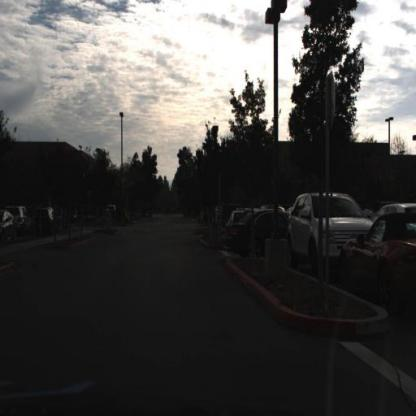car: (338, 212, 416, 324), (283, 189, 368, 283), (226, 204, 292, 255), (11, 205, 35, 237), (36, 204, 57, 240), (2, 208, 19, 250)
